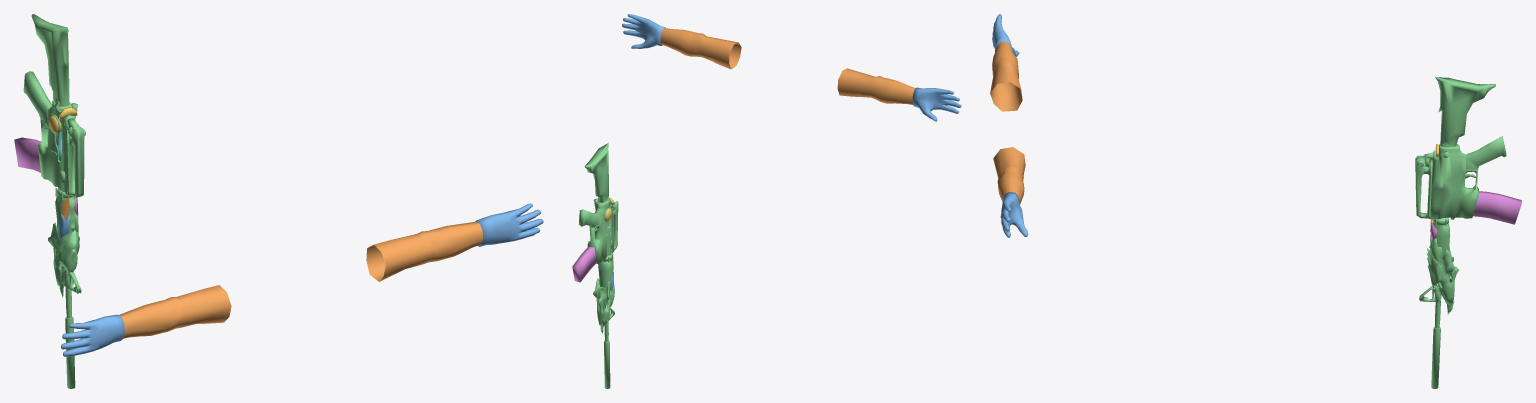
Rendered from PV-M4A1_S_Transformers_c3_only.obj.
3 renders of one model, left to right at view 1: azimuth 30°, elevation 25°; view 2: azimuth 150°, elevation 25°; view 3: azimuth 270°, elevation 25°, orthographic. The views are drawn at different scales.
Parts seen in each view (by area): view 1: PV-M4A1_S_Transformers_M4A1_transformers_Body, PV-M4A1_S_Transformers_Fview-arm2, PV-M4A1_S_Transformers_Fview-hand2, PV-M4A1_S_Transformers_M4A1_transformers_MAG; view 2: PV-M4A1_S_Transformers_M4A1_transformers_Body, PV-M4A1_S_Transformers_Fview-arm2, PV-M4A1_S_Transformers_Fview-hand2, PV-M4A1_S_Transformers_M4A1_transformers_MAG; view 3: PV-M4A1_S_Transformers_M4A1_transformers_Body, PV-M4A1_S_Transformers_Fview-arm2, PV-M4A1_S_Transformers_Fview-hand2, PV-M4A1_S_Transformers_M4A1_transformers_MAG.
Boxes of the visible parts, bbox=[...] form: PV-M4A1_S_Transformers_M4A1_transformers_Body: bbox=[23, 14, 85, 388]; PV-M4A1_S_Transformers_Fview-arm2: bbox=[119, 221, 483, 338]; PV-M4A1_S_Transformers_Fview-hand2: bbox=[61, 203, 543, 356]; PV-M4A1_S_Transformers_M4A1_transformers_MAG: bbox=[14, 137, 59, 172]; PV-M4A1_S_Transformers_M4A1_transformers_Body: bbox=[579, 142, 618, 388]; PV-M4A1_S_Transformers_Fview-arm2: bbox=[660, 28, 915, 104]; PV-M4A1_S_Transformers_Fview-hand2: bbox=[622, 14, 961, 121]; PV-M4A1_S_Transformers_M4A1_transformers_MAG: bbox=[572, 246, 596, 282]; PV-M4A1_S_Transformers_M4A1_transformers_Body: bbox=[1415, 77, 1506, 388]; PV-M4A1_S_Transformers_Fview-arm2: bbox=[990, 42, 1025, 204]; PV-M4A1_S_Transformers_Fview-hand2: bbox=[992, 14, 1028, 237]; PV-M4A1_S_Transformers_M4A1_transformers_MAG: bbox=[1473, 191, 1521, 224].
Bounding box in the file's own units: 50.88 × 35.66 × 55.42.
